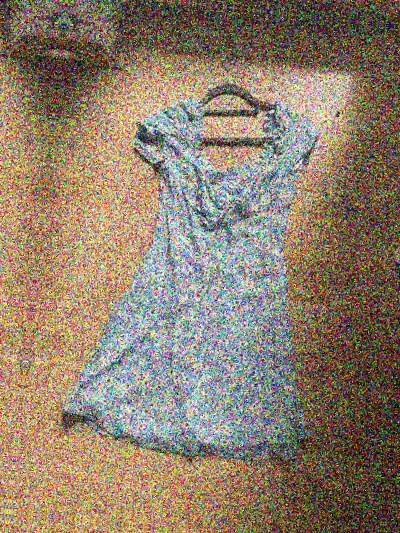Dress: (22, 45, 400, 502), (0, 5, 53, 461)
